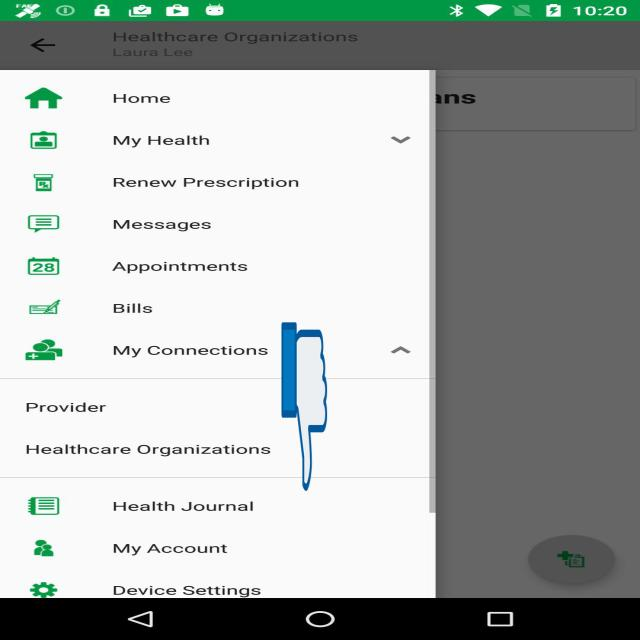obstruction: (282, 318, 327, 494)
